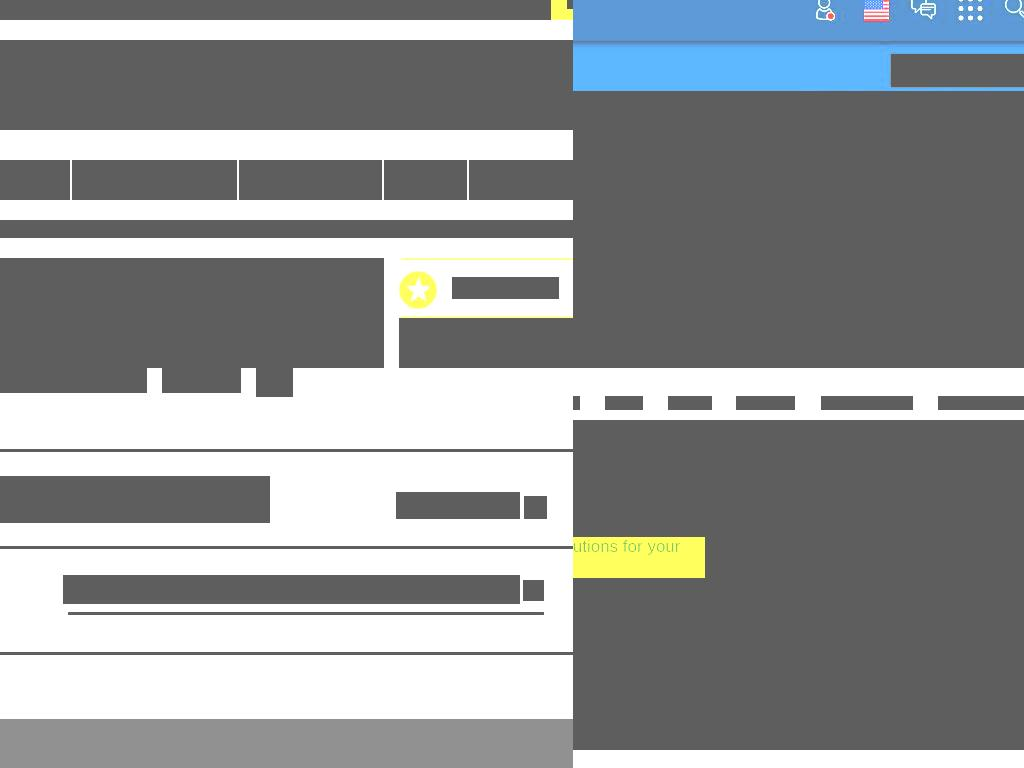button: (573, 420, 1024, 750), (0, 258, 384, 368), (0, 476, 270, 523), (399, 318, 573, 368), (72, 160, 237, 200), (239, 160, 382, 200), (469, 160, 573, 200), (0, 368, 147, 393), (384, 160, 467, 200), (0, 160, 70, 200), (236, 0, 372, 20), (111, 0, 236, 20), (162, 368, 241, 393), (372, 0, 464, 20), (464, 0, 551, 20), (29, 0, 111, 20), (256, 368, 293, 397)
field: (63, 575, 520, 604)
heading: (573, 261, 912, 368), (573, 181, 847, 256), (573, 438, 753, 525), (0, 478, 263, 519), (399, 326, 573, 368), (452, 277, 559, 299)
iframe: (0, 40, 573, 130)
image: (0, 258, 384, 368), (524, 496, 547, 519), (523, 580, 544, 601), (264, 369, 285, 389)
link: (821, 396, 913, 410), (938, 396, 1024, 410), (517, 220, 573, 238), (736, 396, 795, 410), (668, 396, 712, 410), (605, 396, 643, 410), (573, 396, 580, 410)
text: (573, 91, 1024, 368), (0, 220, 517, 238), (573, 537, 705, 578), (891, 54, 1024, 87), (0, 368, 139, 390), (396, 492, 463, 519), (461, 492, 520, 519), (170, 368, 233, 385), (252, 0, 356, 9), (127, 0, 220, 9), (388, 0, 448, 9), (480, 0, 535, 9), (45, 0, 95, 9)
